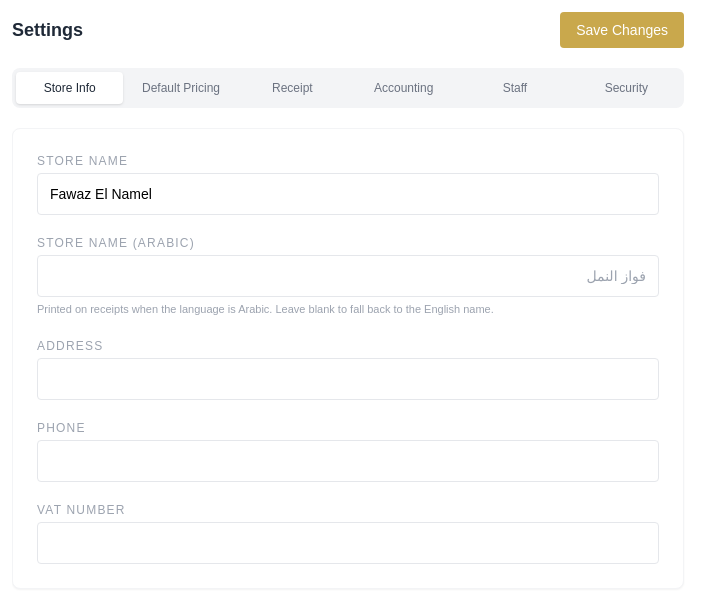
Test: settings › change password, on either backend › today's backend: 204 with no body — confirmed, form cleared, still signed in
Click the button "Security".
click(626, 88)  # box x1=573 y1=72 x2=680 y2=104
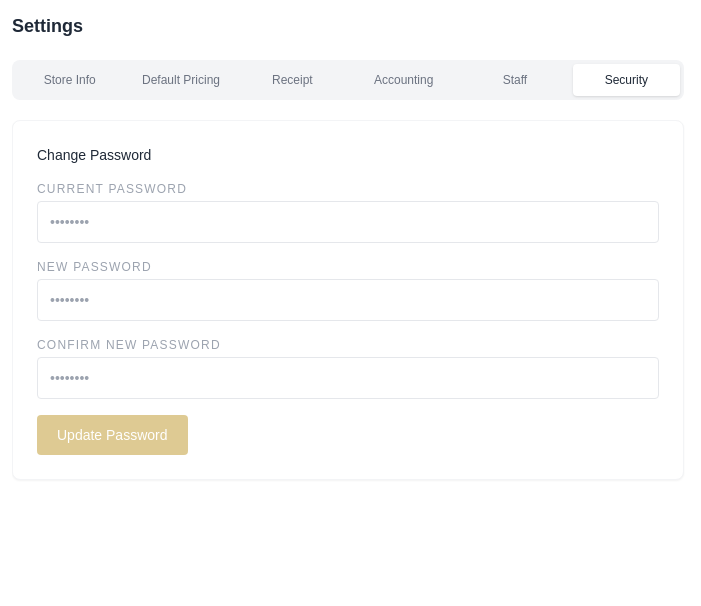
Type "old-passw0rd" into the password field labelled "Current Password".
click(348, 222); type("old-passw0rd")  # box x1=37 y1=201 x2=659 y2=243
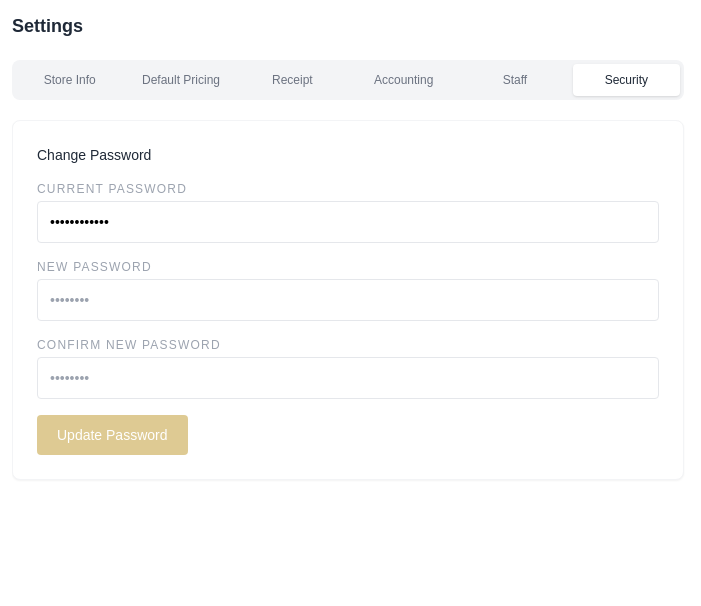
Type "new-passw0rd" into the password field labelled "New Password".
click(348, 300); type("new-passw0rd")  # box x1=37 y1=279 x2=659 y2=321
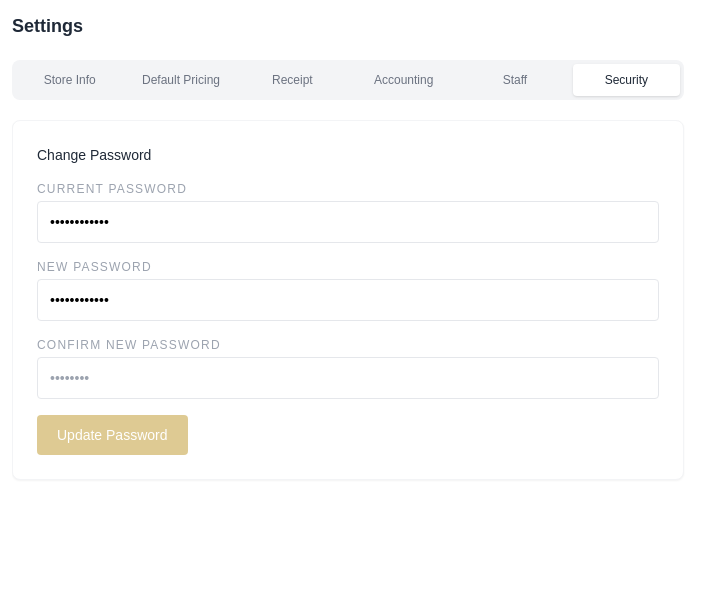
Type "new-passw0rd" into the password field labelled "Confirm New Password".
click(348, 378); type("new-passw0rd")  # box x1=37 y1=357 x2=659 y2=399
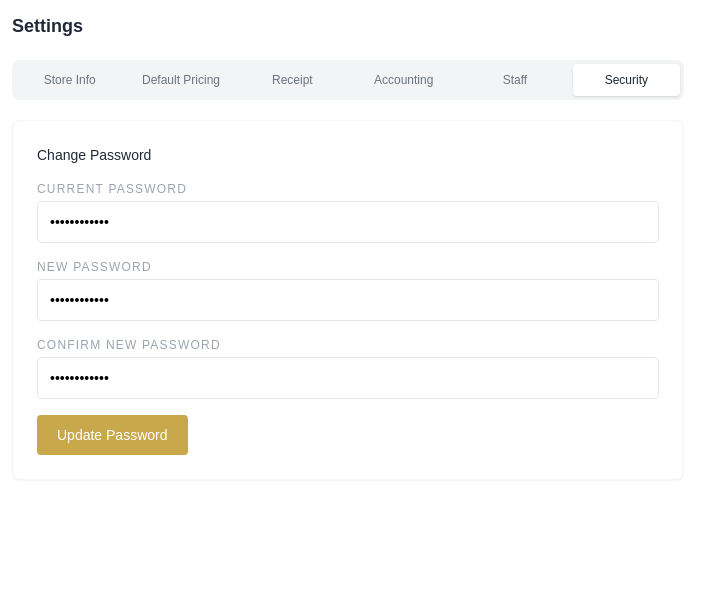
Click the button "Update Password".
click(112, 435)  # box x1=37 y1=415 x2=188 y2=455
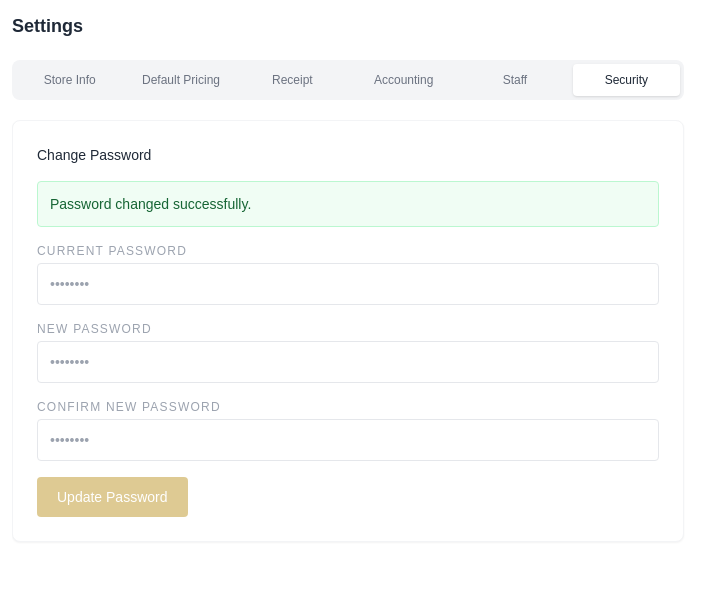
Now the message reads "Password changed successfully.", box x1=50 y1=196 x2=251 y2=212
Now the password field labelled "Current Password" is empty, box x1=37 y1=263 x2=659 y2=305
Now the password field labelled "New Password" is empty, box x1=37 y1=341 x2=659 y2=383
